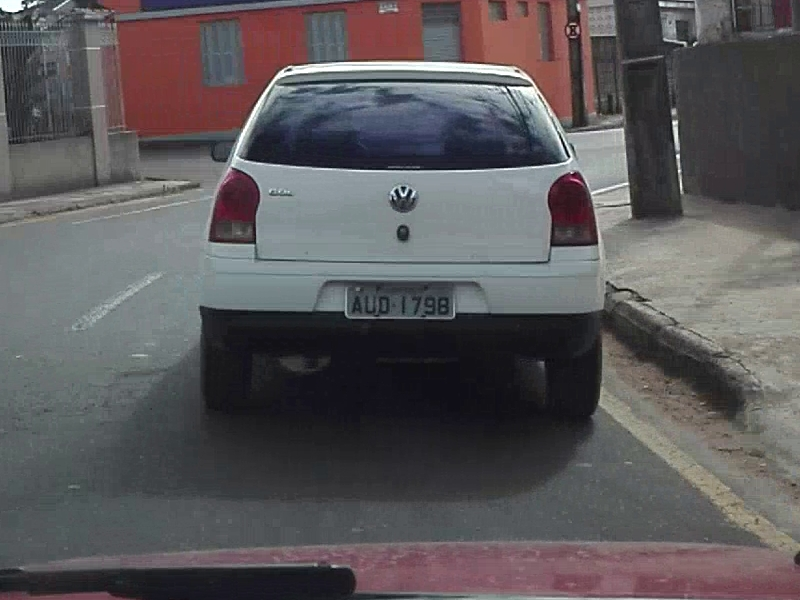placa: (345, 282, 455, 319)
